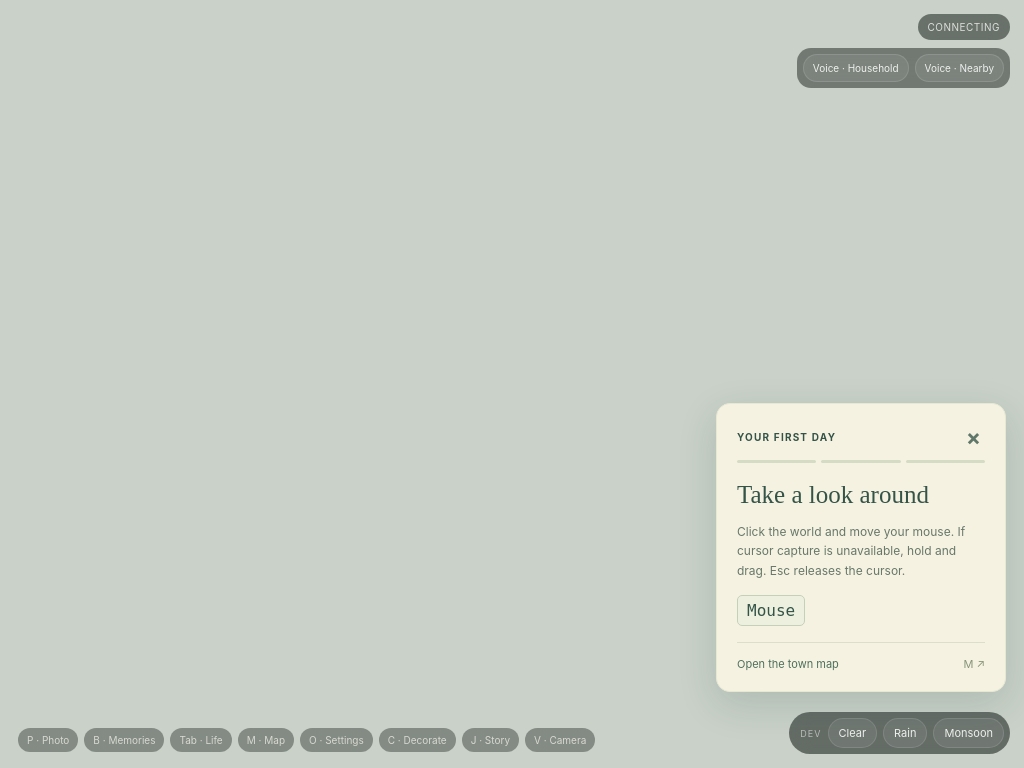
Test: GameCanvas engine lifecycle › keeps resident dialogue reactive to weather chosen by the game UI
What coordinates should you click on to do the following:
click the button "Rain"
I would click on:
 (905, 733)
Its box is [883,718,928,748].
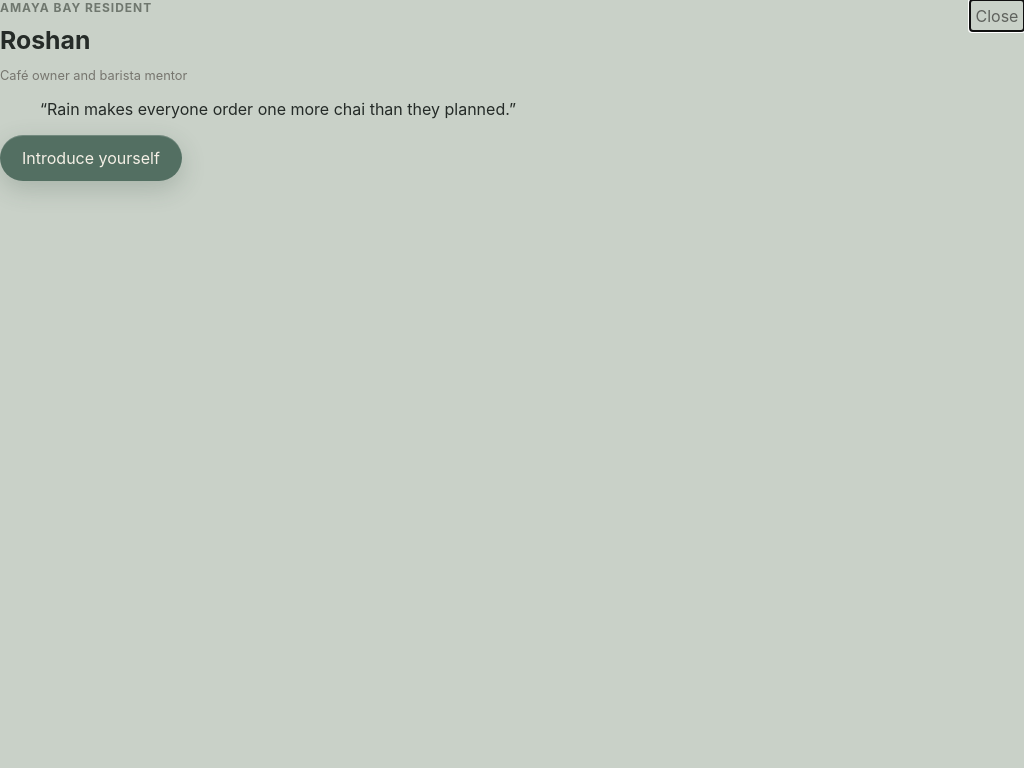
Check: the text "Rain makes everyone order one more chai than they planned." is shown, box [47,99,509,119]
